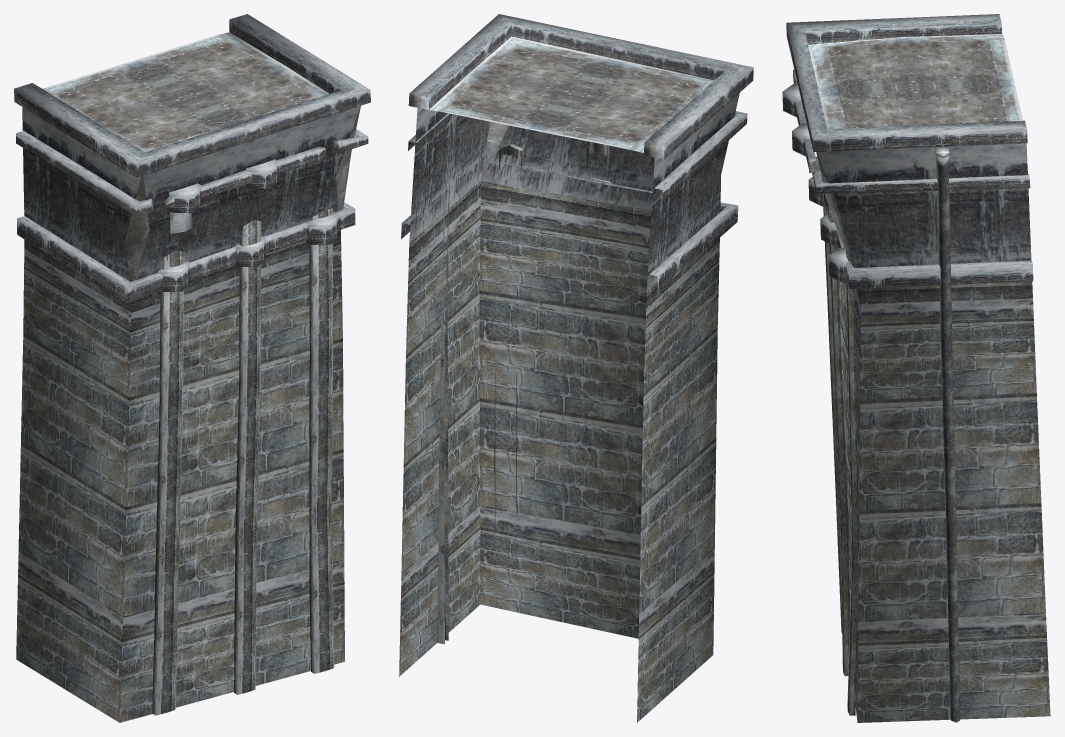
File: S_Build_Snowland139.FBX
The picture shows the model from 3 angles, left to right: view 1: azimuth 30°, elevation 25°; view 2: azimuth 150°, elevation 25°; view 3: azimuth 270°, elevation 25°; orthographic projection. The views are drawn at different scales.
Visible parts, largest first — view 1: S_Build_Snowland139; view 2: S_Build_Snowland139; view 3: S_Build_Snowland139.
Part boxes in pixels (x1,y1,x2,y2): S_Build_Snowland139: (14, 14, 370, 722); S_Build_Snowland139: (399, 14, 753, 722); S_Build_Snowland139: (782, 14, 1050, 722).
Size of the model in its own units: 953 by 835 by 2015.
